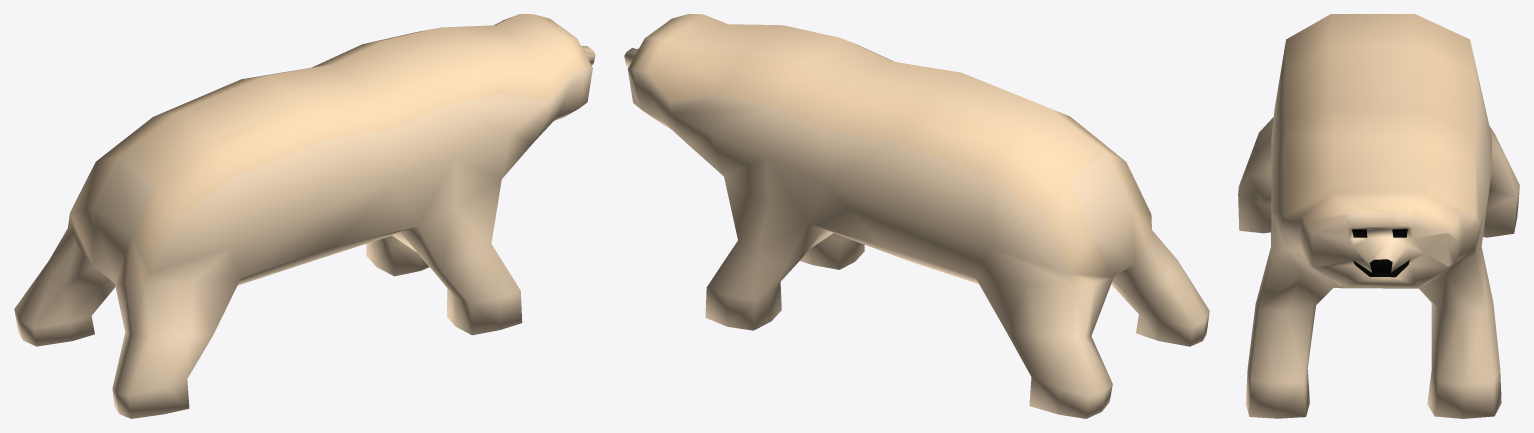
Rendered from testBear.FBX.
The picture shows the model from 3 angles, left to right: view 1: azimuth 30°, elevation 25°; view 2: azimuth 150°, elevation 25°; view 3: azimuth 270°, elevation 25°; orthographic projection. The views are drawn at different scales.
Visible parts, largest first — view 1: Box001; view 2: Box001; view 3: Box001.
Part boxes in pixels (x1,y1,x2,y2): Box001: [14, 14, 595, 418]; Box001: [624, 14, 1209, 418]; Box001: [1238, 14, 1519, 418].
Bounding box in the file's own units: 45.51 × 20.19 × 18.7.
